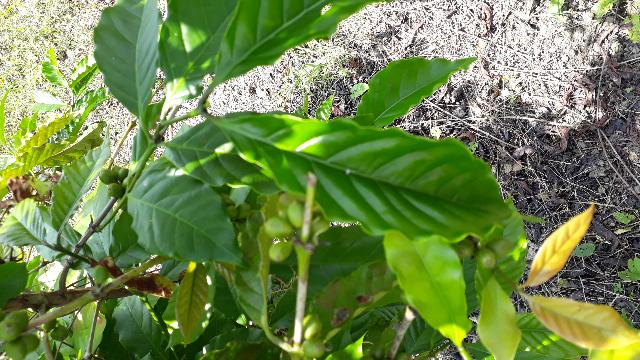healthy: (219, 117, 535, 243)
